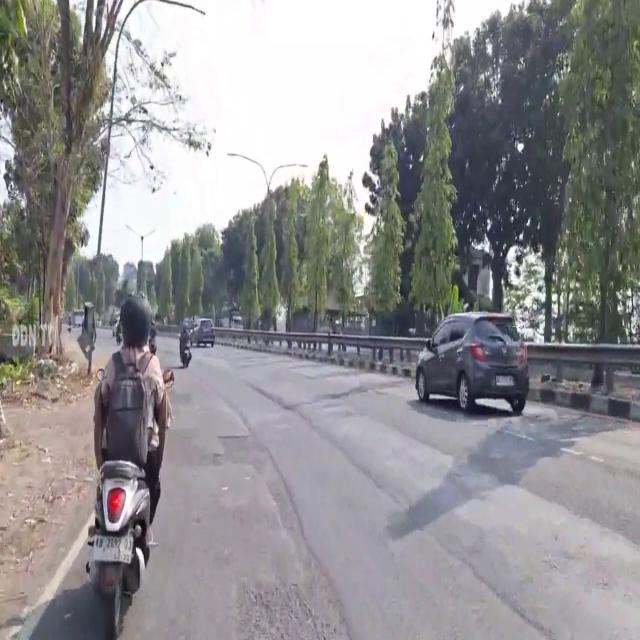WithHelmet: (93, 293, 169, 543), (180, 317, 193, 360)
